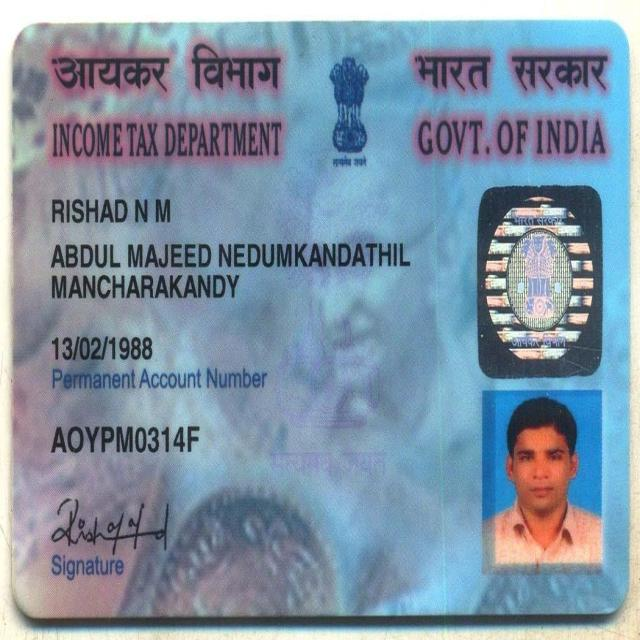pan_card: (17, 28, 625, 615)
